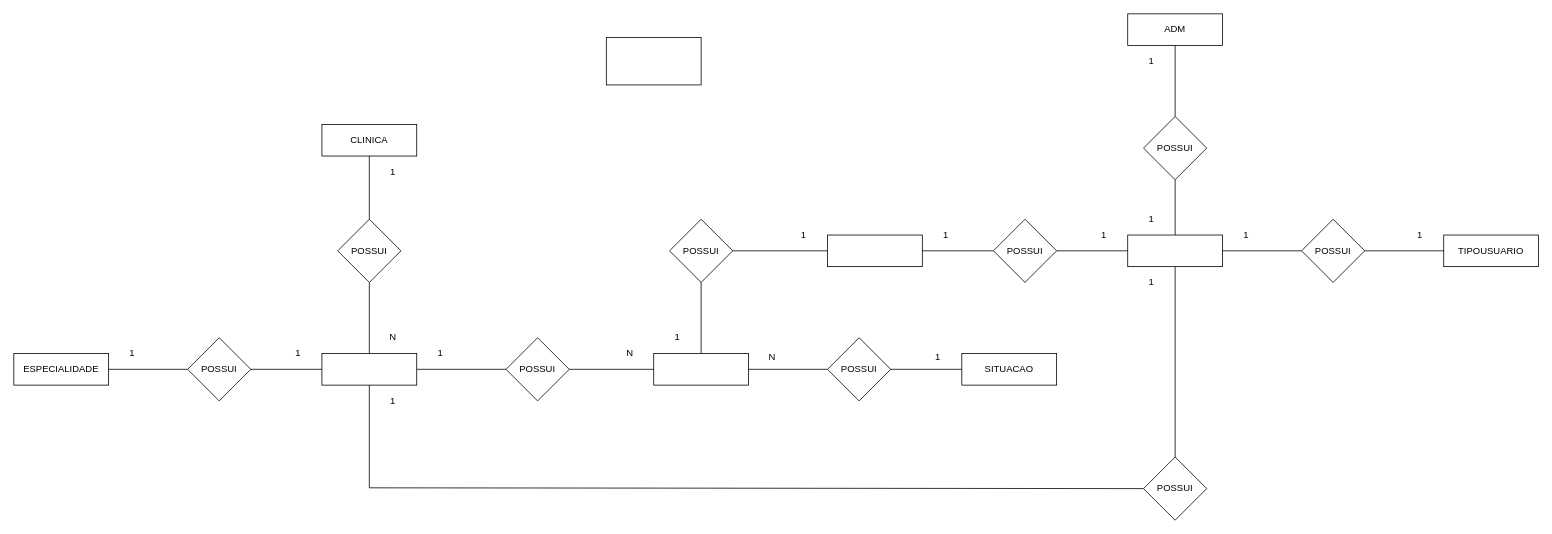
The diagram is 1552 pixels wide and 534 high, and some of its shapes have lost their labels. The shapes that lost their labels are listed below. From the top down, each one's centre as x and y in pixels, then its label:
the point at 653,61: MODELO CONCEITUAL
the point at 874,250: PACIENTE
the point at 1175,250: USUARIO
the point at 369,369: MEDICO
the point at 701,369: CONSULTA
